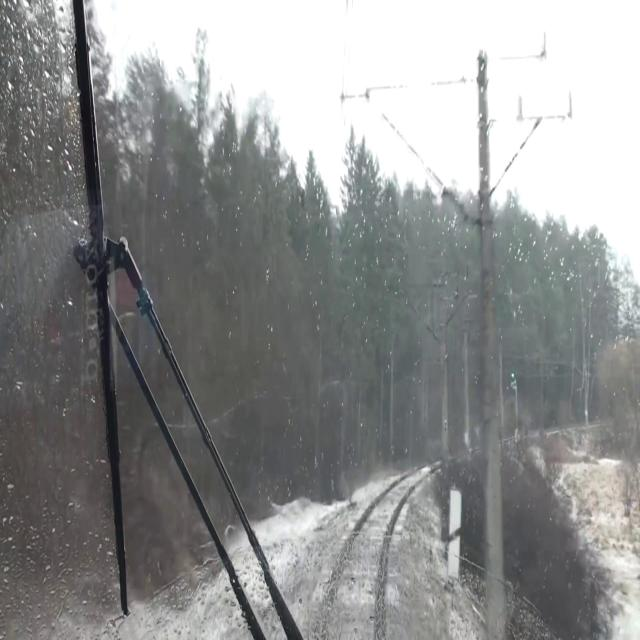rail-track: (322, 474, 418, 639)
